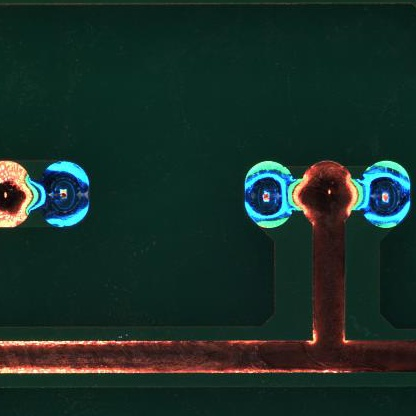spot: (242, 159, 295, 230), (361, 159, 413, 231), (43, 160, 89, 230)
